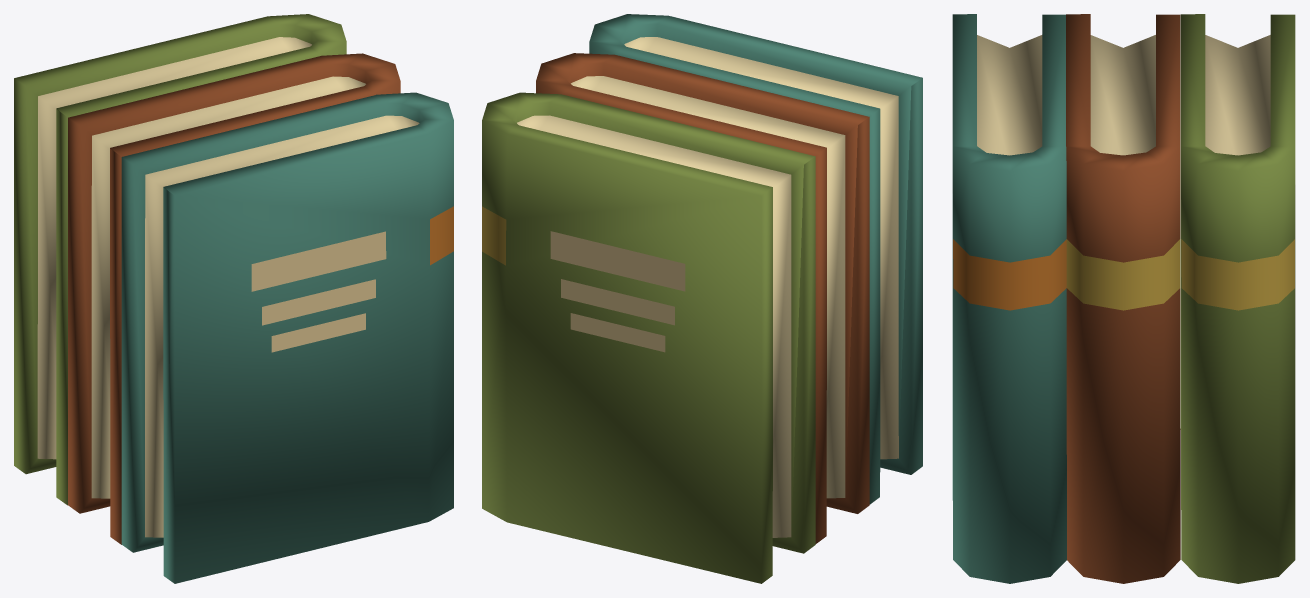
The model's file is rpgpp_ag_book_pile_01b.fbx.
3 views of the same model, side by side, from view 1: azimuth 30°, elevation 25°; view 2: azimuth 150°, elevation 25°; view 3: azimuth 270°, elevation 25° (orthographic). The views are drawn at different scales.
Visible parts, largest first — view 1: rpgpp_ag_book_pile_01b; view 2: rpgpp_ag_book_pile_01b; view 3: rpgpp_ag_book_pile_01b.
Boxes of the visible parts, bbox=[...] form: rpgpp_ag_book_pile_01b: bbox=[14, 14, 453, 583]; rpgpp_ag_book_pile_01b: bbox=[482, 14, 922, 583]; rpgpp_ag_book_pile_01b: bbox=[952, 14, 1295, 583].
Bounding box in the file's own units: 0.2437 × 0.3012 × 0.2271.
